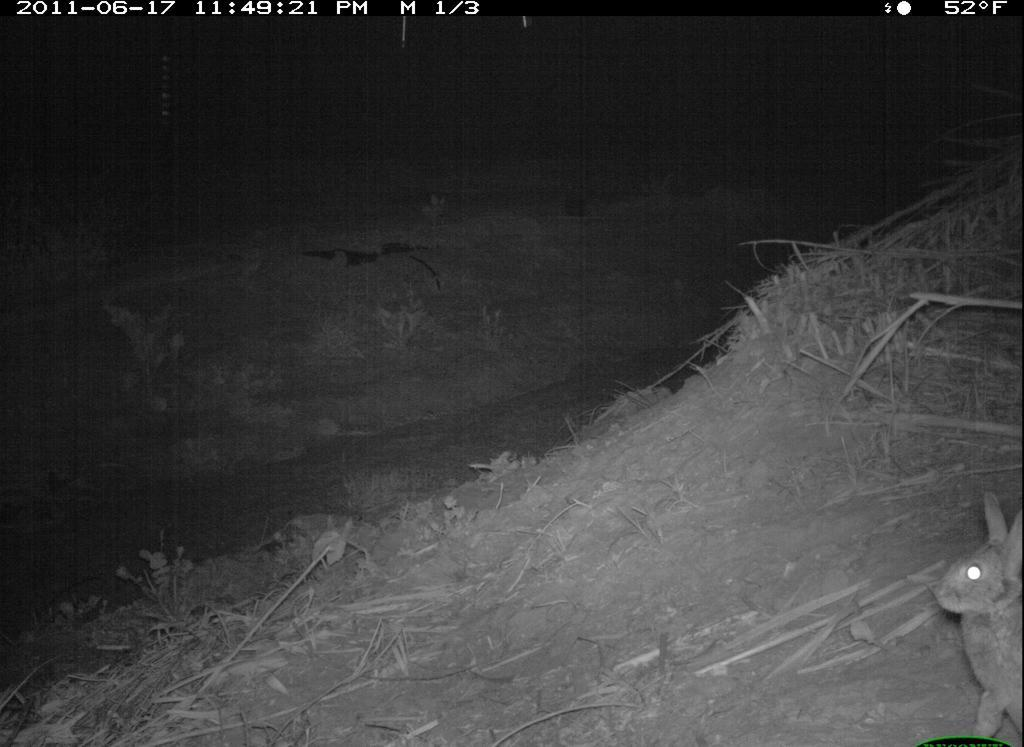rabbit: (926, 487, 1023, 742)
